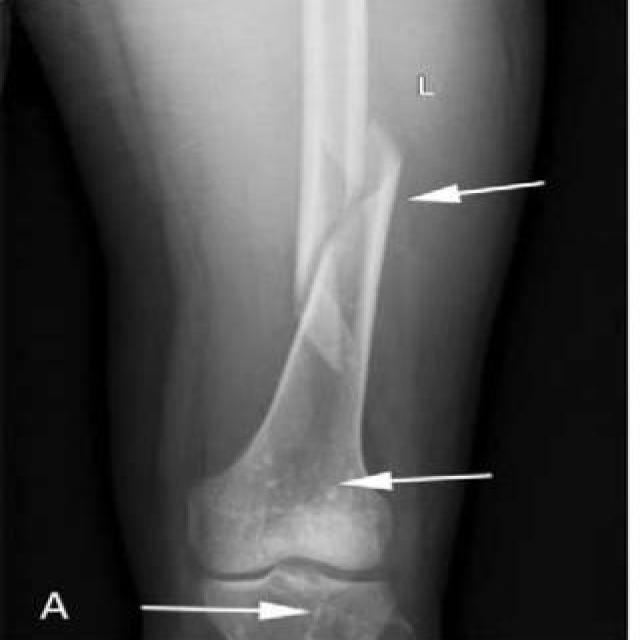bone: (275, 136, 413, 317)
